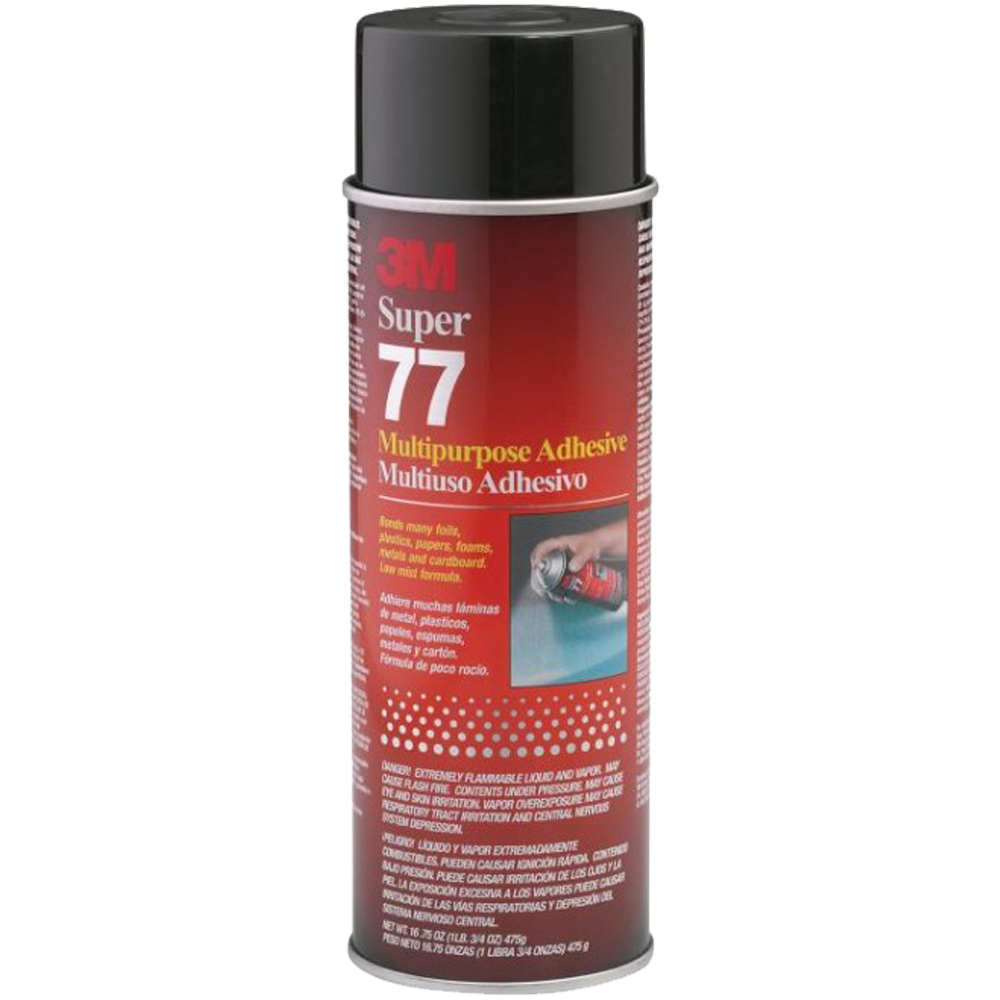Aerosol_cans: (334, 1, 662, 1000)
